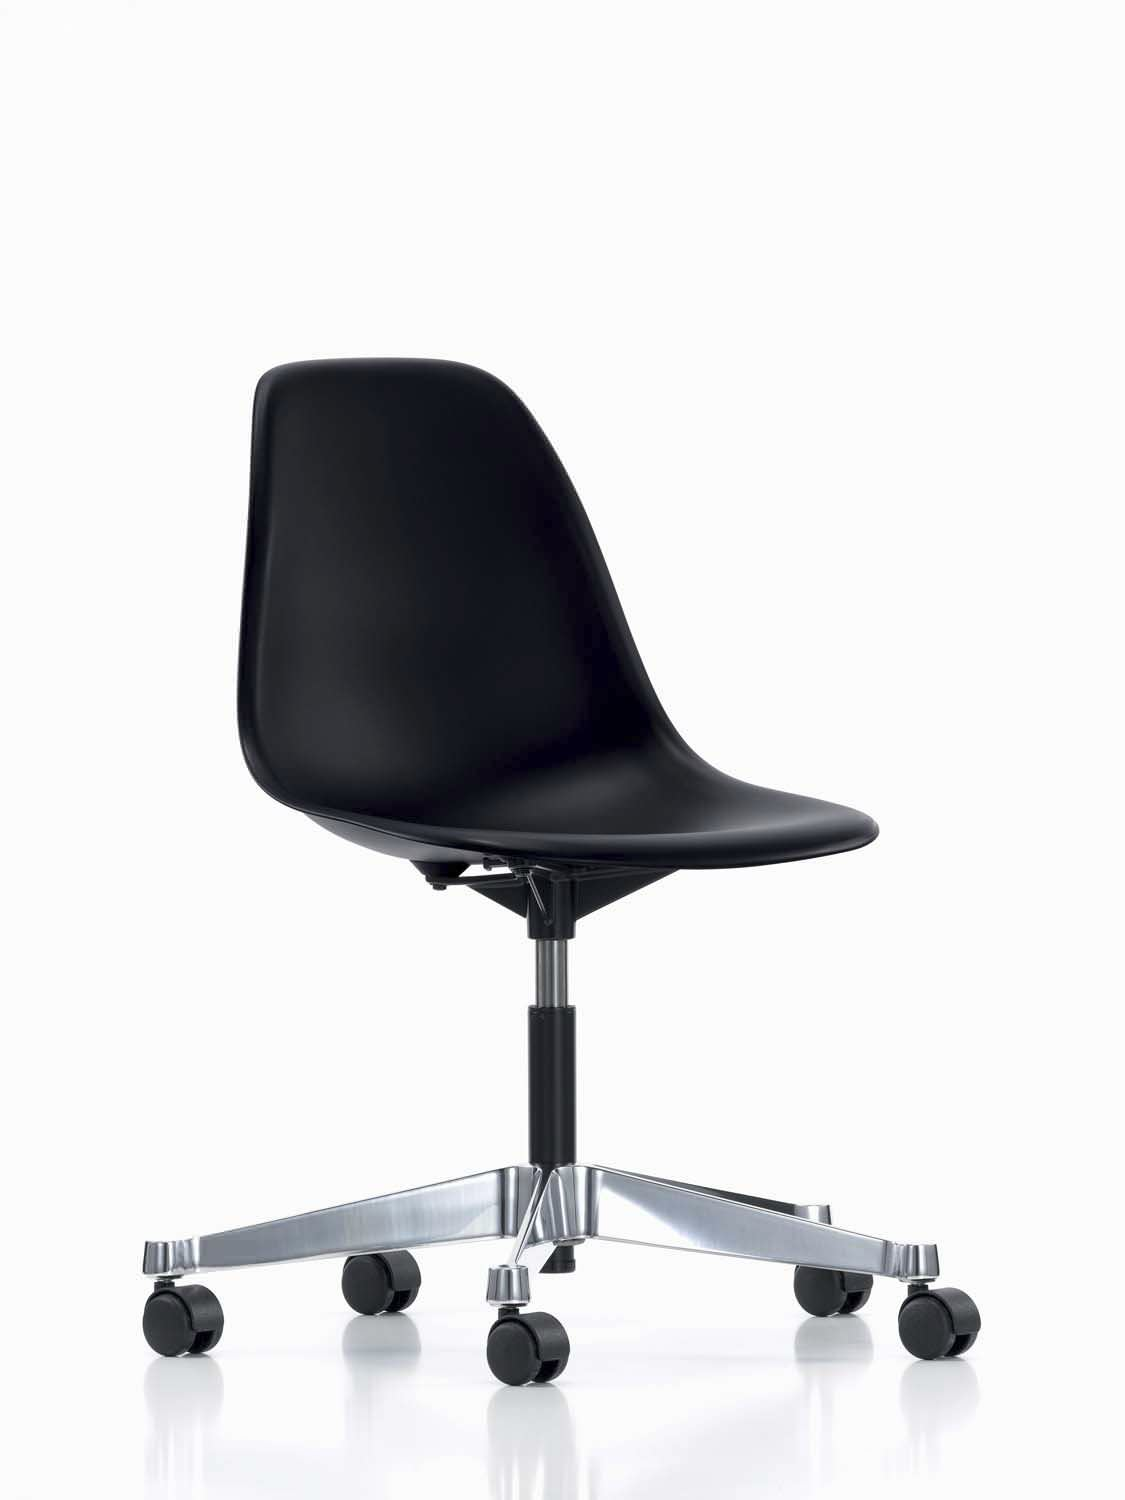chairs: (144, 346, 986, 1381)
